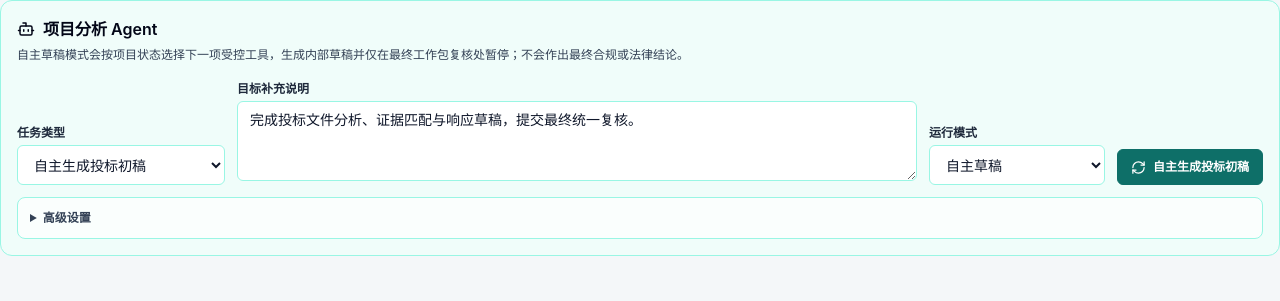
Test case: AgentLaunchPanel › shows the API error without refreshing when creating a run fails
Step 1. Click the button "自主生成投标初稿" → {"x": 1190, "y": 167}, box [1117,149,1263,185]
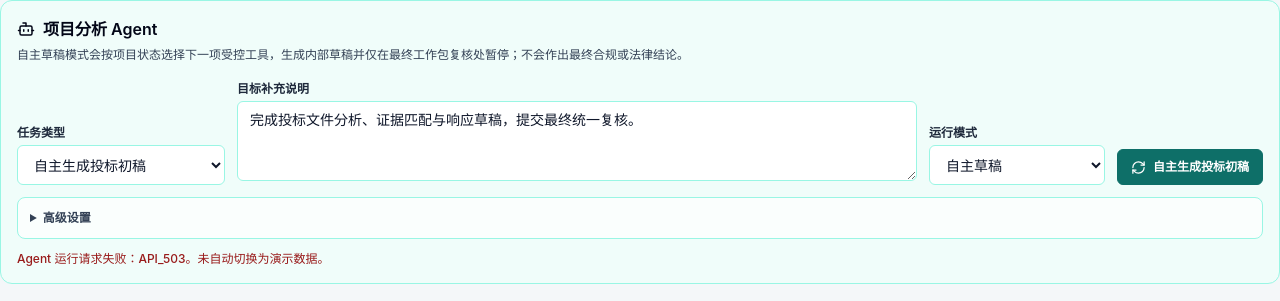
expect the message reads "Agent 运行请求失败：API_503。未自动切换为演示数据。": met, box [17,251,330,266]
